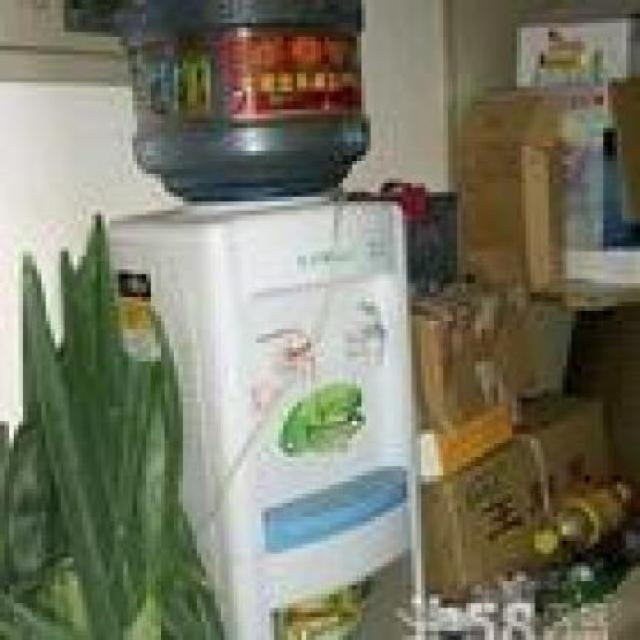coolerbottle: (114, 0, 373, 209)
